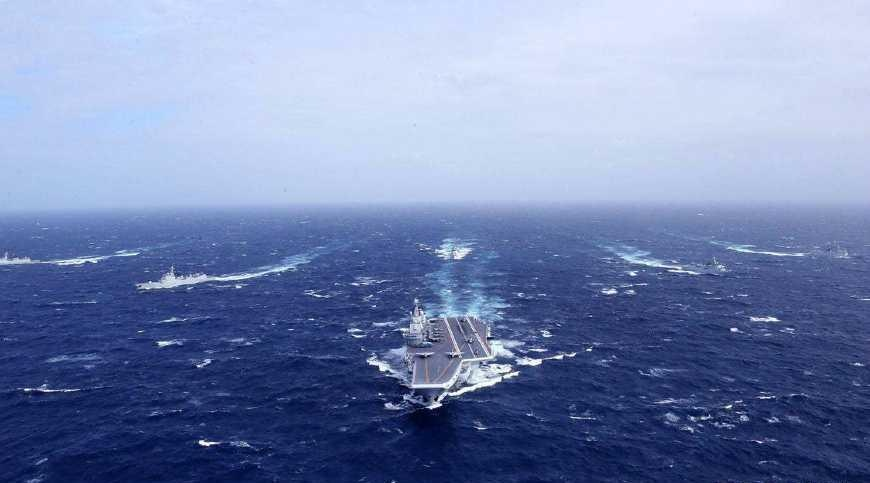warship: (389, 300, 494, 407)
